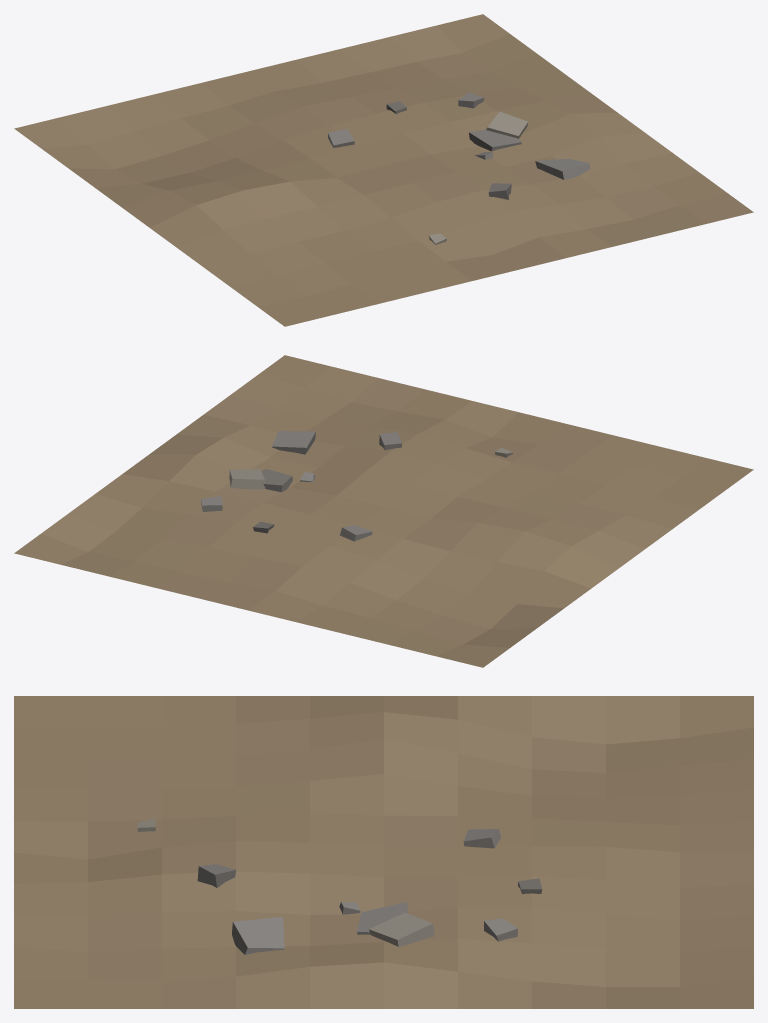
The model's file is dirt_lowpoly_a.glb.
3 renders of one model, top to bottom at view 1: azimuth 30°, elevation 25°; view 2: azimuth 150°, elevation 25°; view 3: azimuth 270°, elevation 25°, orthographic. The views are drawn at different scales.
Parts seen in each view (by area): view 1: DirtTile; view 2: DirtTile; view 3: DirtTile.
Part boxes in pixels (x1,y1,x2,y2): DirtTile: [14, 14, 753, 326]; DirtTile: [14, 355, 753, 667]; DirtTile: [14, 696, 753, 1008].
Size of the model in its own units: 1 by 0.0779 by 1.
